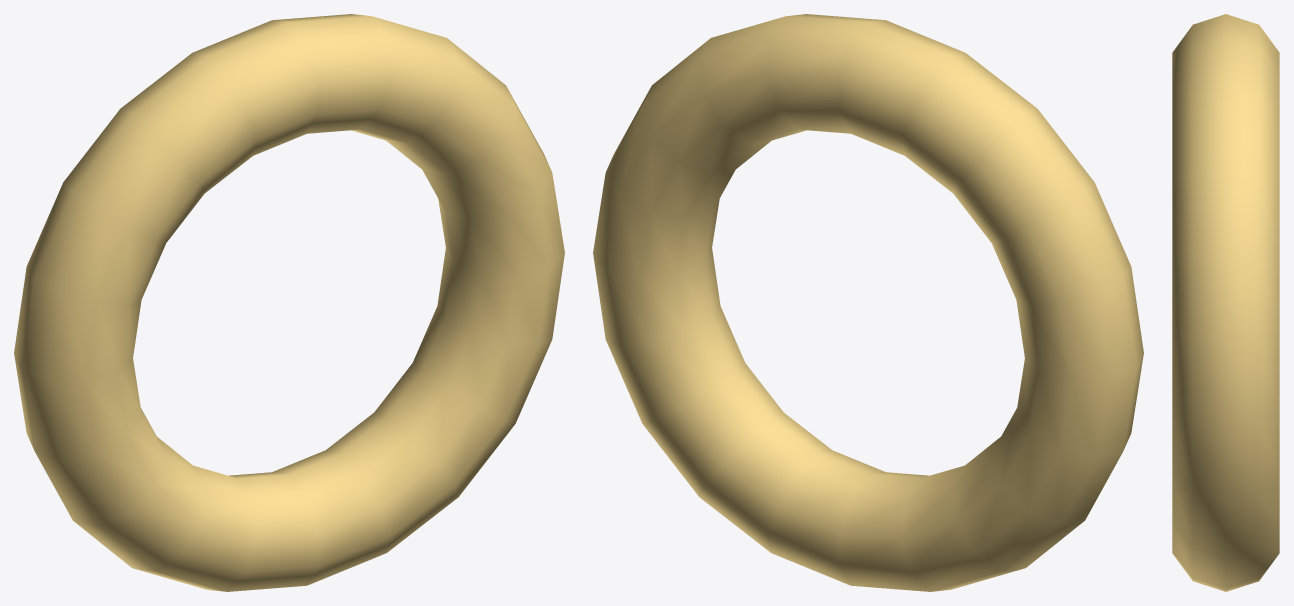
The model's file is cuff_bracelet.glb.
The picture shows the model from 3 angles, left to right: view 1: azimuth 30°, elevation 25°; view 2: azimuth 150°, elevation 25°; view 3: azimuth 270°, elevation 25°; orthographic projection. The views are drawn at different scales.
Visible parts, largest first — view 1: Cuff Bracelet; view 2: Cuff Bracelet; view 3: Cuff Bracelet.
Boxes of the visible parts, bbox=[...] form: Cuff Bracelet: bbox=[14, 14, 564, 591]; Cuff Bracelet: bbox=[593, 14, 1143, 591]; Cuff Bracelet: bbox=[1172, 14, 1279, 591].
Bounding box in the file's own units: 0.31 × 0.31 × 0.0571.
